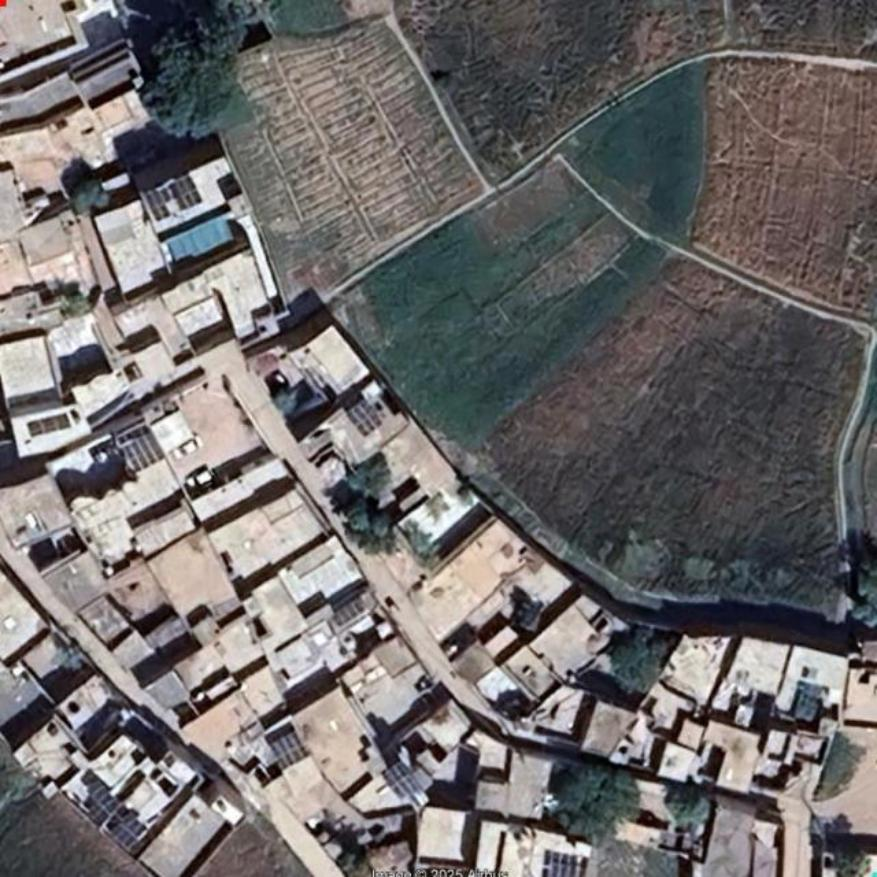Solarpanel: (148, 175, 200, 221), (268, 732, 308, 773), (382, 762, 422, 801), (345, 397, 380, 434), (28, 414, 68, 435)
